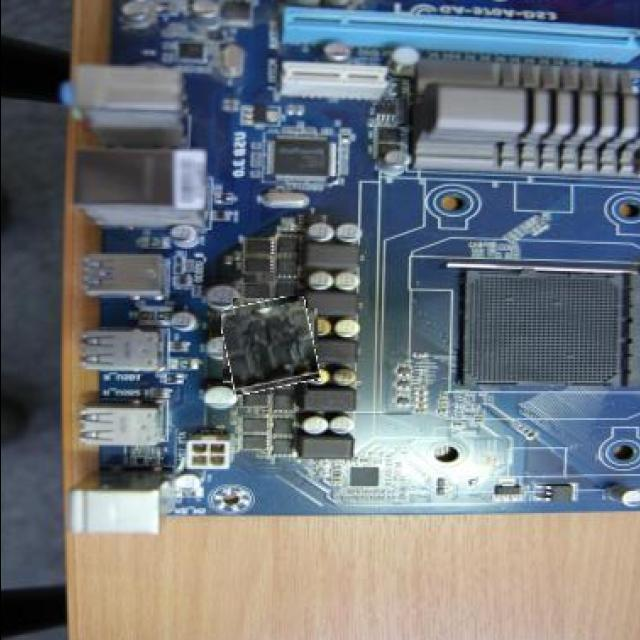Burn: (221, 297, 316, 392)
